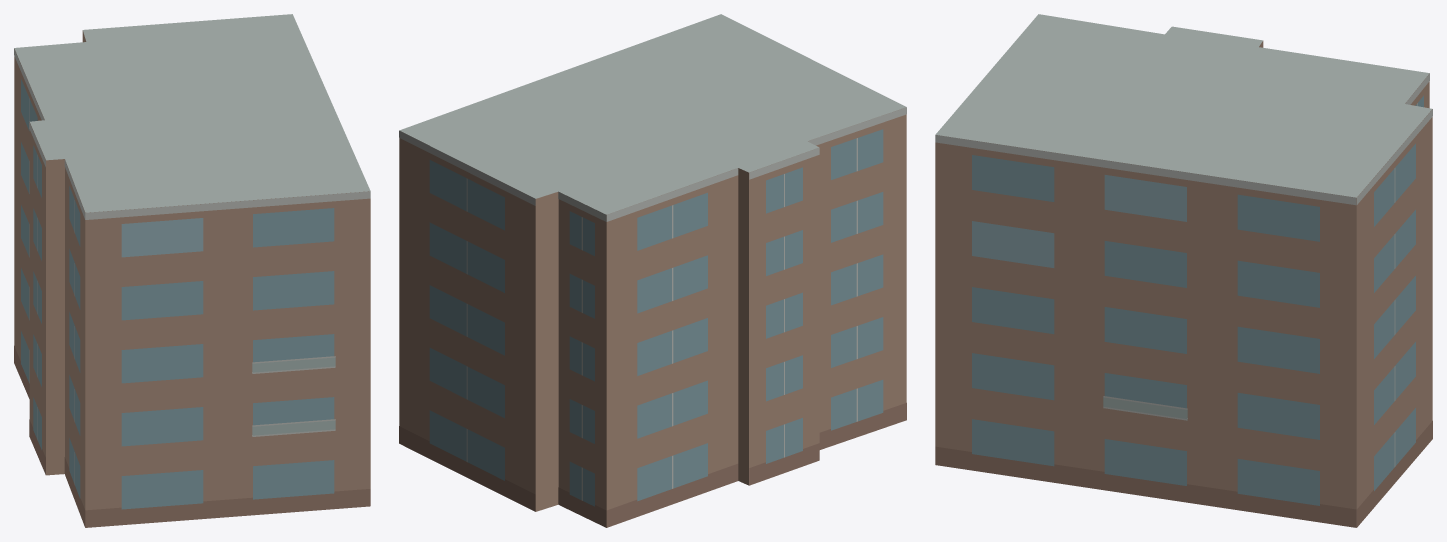
The model's file is survey-upis-32961970.glb.
3 views of the same model, side by side, from view 1: azimuth 30°, elevation 25°; view 2: azimuth 150°, elevation 25°; view 3: azimuth 270°, elevation 25° (orthographic). The views are drawn at different scales.
Parts seen in each view (by area): view 1: survey-upis-32961970.tmp; view 2: survey-upis-32961970.tmp; view 3: survey-upis-32961970.tmp.
Boxes of the visible parts, x1,y1,x2,y2 form: survey-upis-32961970.tmp: (14,14,370,527); survey-upis-32961970.tmp: (399,14,906,527); survey-upis-32961970.tmp: (935,14,1432,527).
Size of the model in its own units: 12.53 by 10.5 by 14.34.
